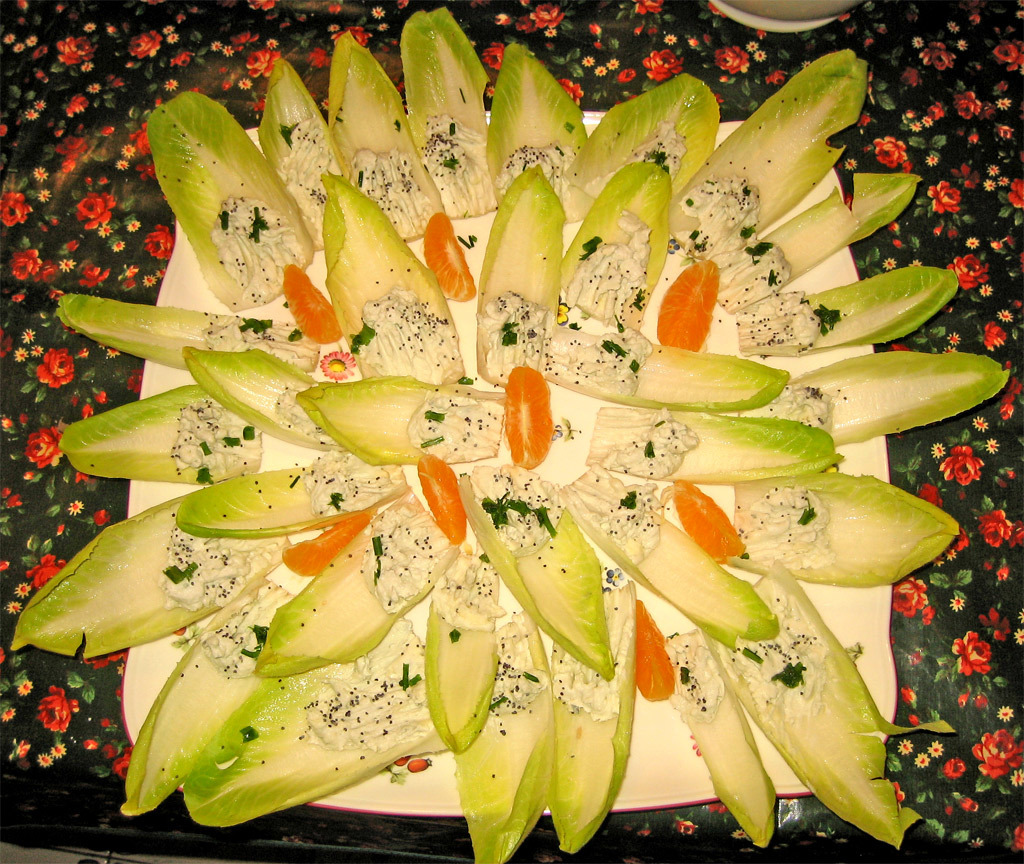salad: (5, 0, 1005, 863)
